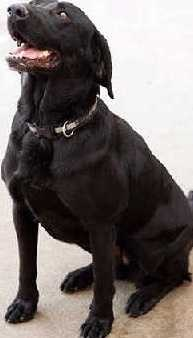Dog: (1, 81, 192, 324)
